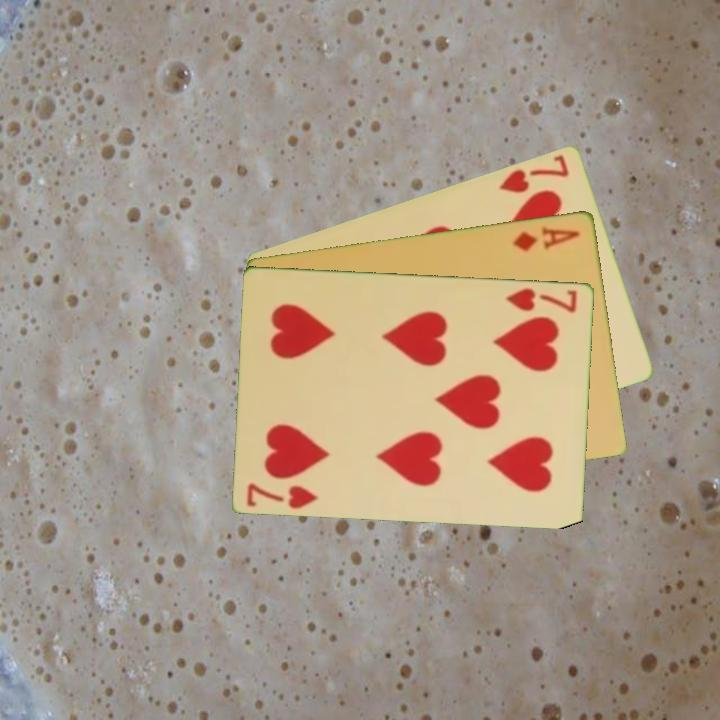7h: (496, 150, 572, 196), (244, 479, 322, 511), (503, 284, 580, 315)
Ad: (509, 222, 583, 254)
